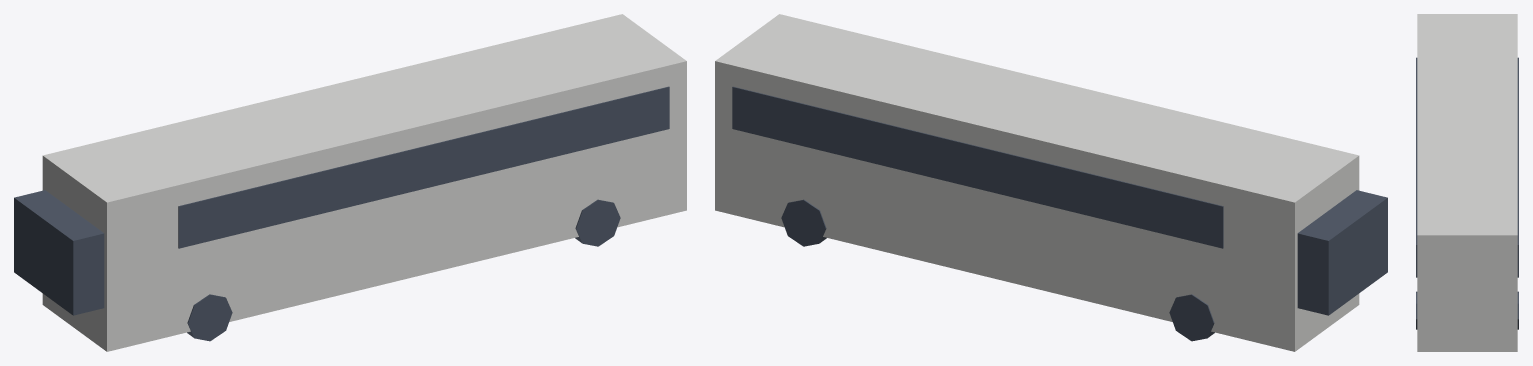
Rendered from motorhome.glb.
3 renders of one model, left to right at view 1: azimuth 30°, elevation 25°; view 2: azimuth 150°, elevation 25°; view 3: azimuth 270°, elevation 25°, orthographic. The views are drawn at different scales.
Visible parts, largest first — view 1: motorhome; view 2: motorhome; view 3: motorhome.
Part boxes in pixels (x1=…): motorhome: x1=14, y1=14, x2=686, y2=351; motorhome: x1=715, y1=14, x2=1387, y2=351; motorhome: x1=1416, y1=14, x2=1518, y2=351.
Bounding box in the file's own units: 13.7 × 3.5 × 2.55.
